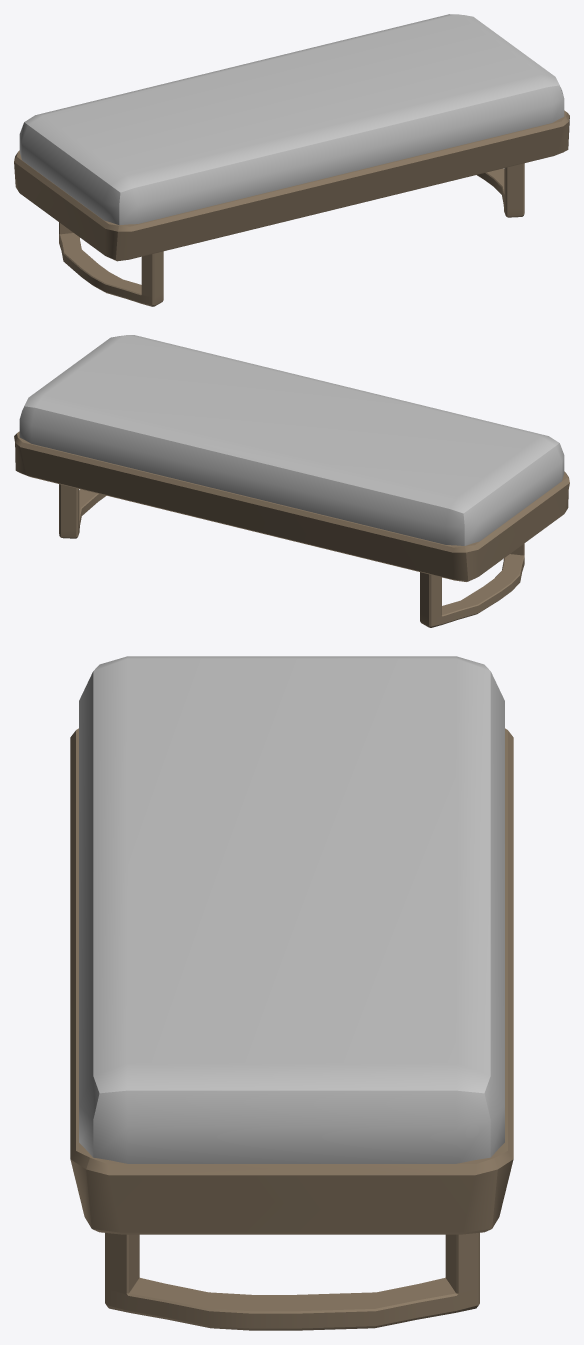
File: bedroom_bed_ver2.fbx
3 views of the same model, one above another, from view 1: azimuth 30°, elevation 25°; view 2: azimuth 150°, elevation 25°; view 3: azimuth 270°, elevation 25° (orthographic). The views are drawn at different scales.
Visible parts, largest first — view 1: bed1; view 2: bed1; view 3: bed1.
Boxes of the visible parts, x1=… form: bed1: x1=14, y1=14, x2=569, y2=306; bed1: x1=14, y1=335, x2=569, y2=627; bed1: x1=70, y1=656, x2=513, y2=1330.
Size of the model in its own units: 2.59 by 0.7104 by 1.07.
